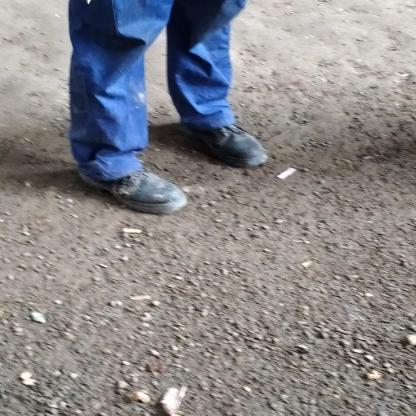bota: (77, 149, 189, 215), (187, 106, 272, 170)
